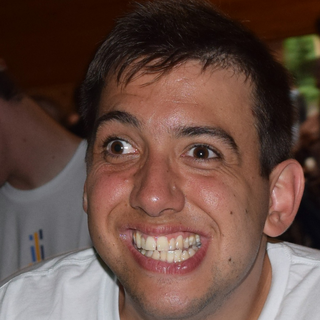eye: (179, 140, 226, 166), (99, 133, 139, 160)
